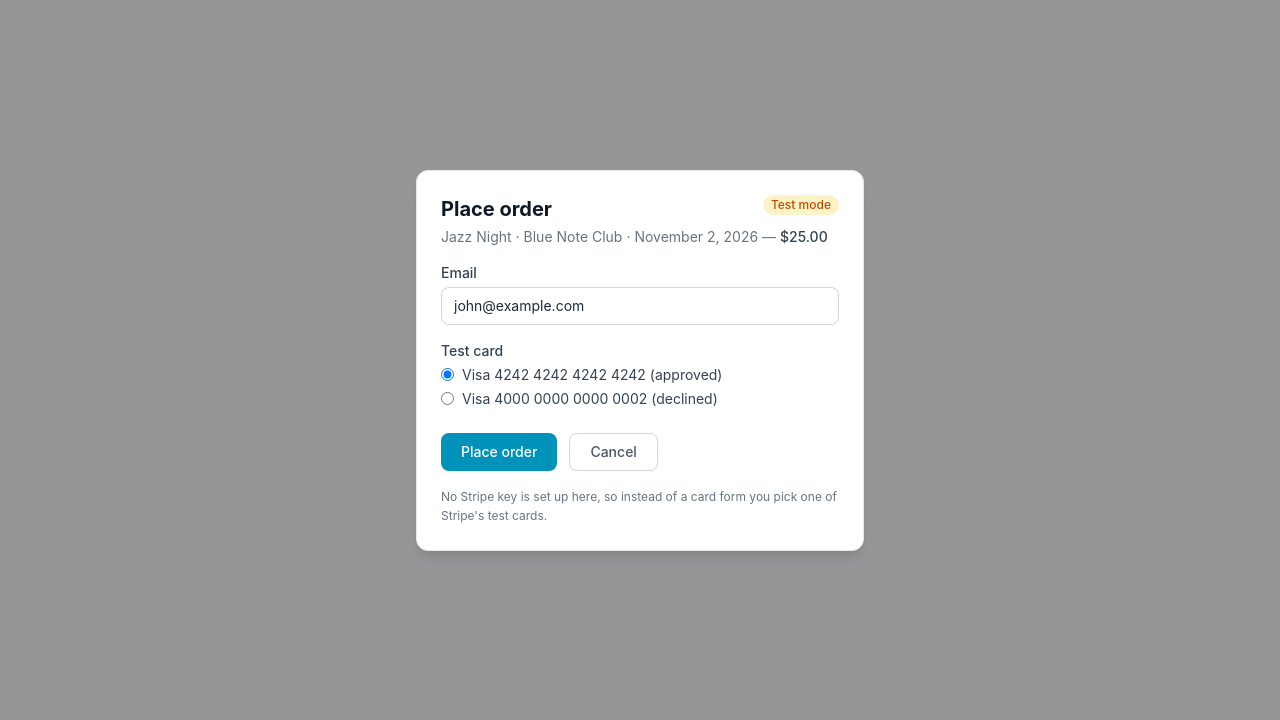
Test case: BookingModal › disables the buttons while the order is being placed
Click the button "Place order". click: (499, 452)
box: [441,432,557,470]
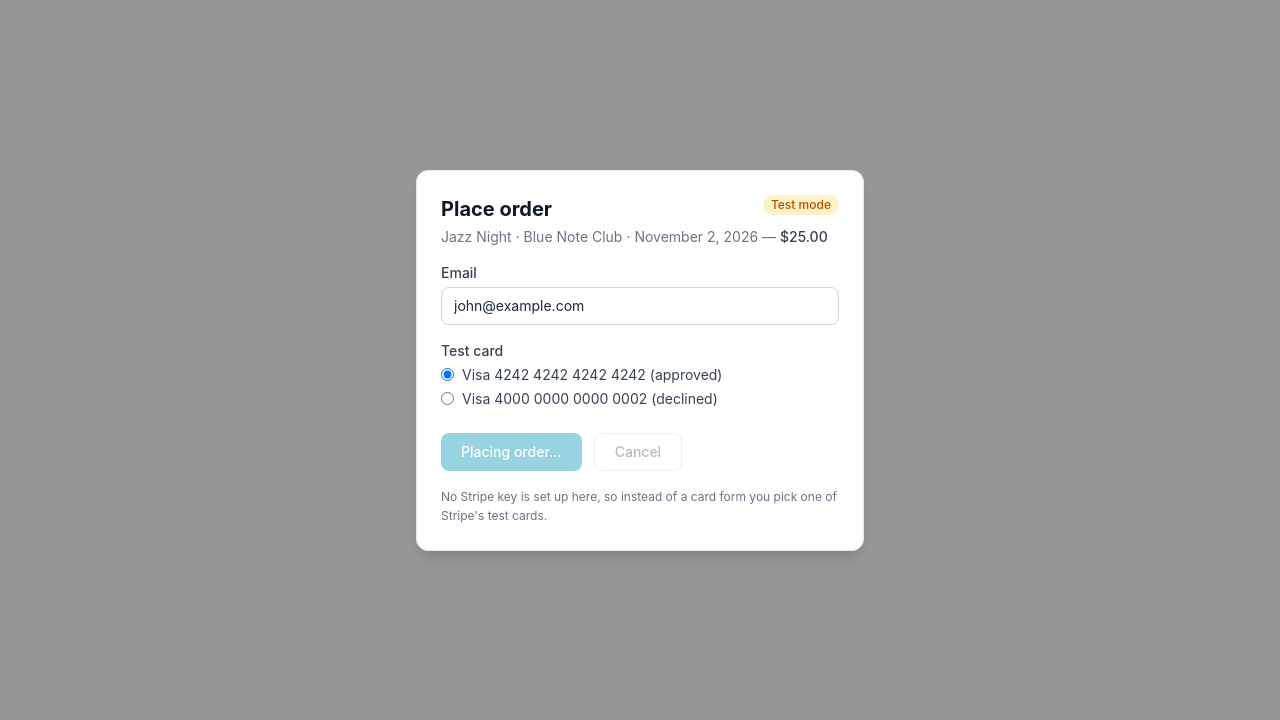
expect the button "Placing order…" is disabled: met, box [441,432,582,470]
expect the button "Cancel" is disabled: met, box [594,432,682,470]
